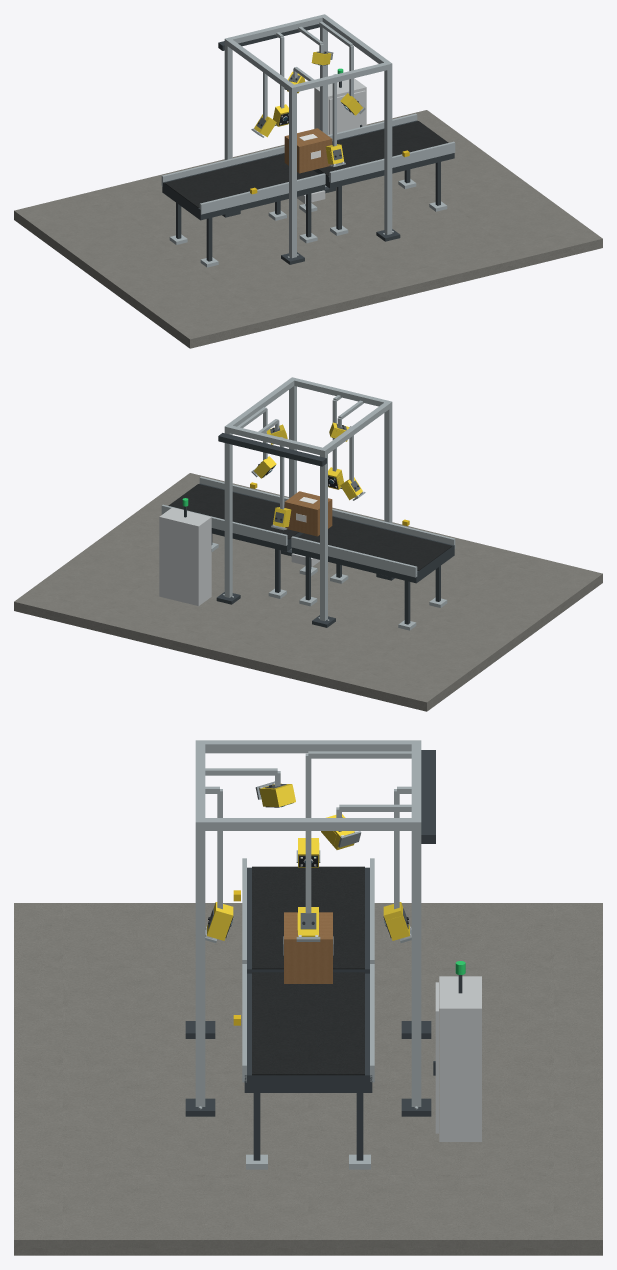
The picture shows the model from 3 angles, top to bottom: view 1: azimuth 30°, elevation 25°; view 2: azimuth 150°, elevation 25°; view 3: azimuth 270°, elevation 25°; orthographic projection. The views are drawn at different scales.
Parts seen in each view (by area): view 1: Concrete floor, Belt surface, Belt surface.001, Tunnel upright.002, Side conveyor rail.002, Side conveyor rail, Tunnel upright, Belt conveyor frame, Sample carton, Tunnel upright.001, Side conveyor rail.001, Belt conveyor frame.001 (+8 smaller); view 2: Concrete floor, Tunnel controller cabinet, Belt surface, Belt surface.001, Side conveyor rail.001, Tunnel upright.003, Belt conveyor frame, Sample carton, Tunnel upright.001, Overhead cable raceway, Tunnel upright, Side conveyor rail (+8 smaller); view 3: Concrete floor, Belt surface.001, Belt surface, Tunnel controller cabinet, Belt conveyor frame.001, Tunnel upright.002, Tunnel upright.003, Tunnel crossbeam.001, Sample carton, Tunnel crossbeam, Overhead cable raceway, Belt conveyor frame (+5 smaller).
Part boxes in pixels (x1,y1,x2,y2): Concrete floor: [14, 110, 602, 348]; Belt surface: [164, 153, 318, 207]; Belt surface.001: [318, 121, 448, 176]; Tunnel upright.002: [384, 66, 392, 234]; Side conveyor rail.002: [329, 141, 455, 182]; Side conveyor rail: [199, 173, 325, 214]; Tunnel upright: [289, 88, 296, 258]; Belt conveyor frame: [162, 153, 324, 220]; Sample carton: [284, 128, 332, 173]; Tunnel upright.001: [224, 44, 232, 159]; Side conveyor rail.001: [161, 145, 284, 186]; Belt conveyor frame.001: [313, 120, 454, 188]; Concrete floor: [14, 473, 602, 711]; Tunnel controller cabinet: [159, 507, 211, 606]; Belt surface: [298, 516, 452, 570]; Belt surface.001: [168, 484, 298, 539]; Side conveyor rail.001: [291, 536, 417, 577]; Tunnel upright.003: [224, 428, 232, 597]; Belt conveyor frame: [292, 516, 454, 583]; Sample carton: [284, 491, 332, 536]; Tunnel upright.001: [320, 452, 327, 621]; Overhead cable raceway: [218, 433, 326, 466]; Tunnel upright: [384, 404, 392, 522]; Side conveyor rail: [332, 508, 455, 548]; Concrete floor: [14, 903, 602, 1255]; Belt surface.001: [252, 972, 364, 1075]; Belt surface: [252, 866, 364, 969]; Tunnel controller cabinet: [439, 976, 481, 1141]; Belt conveyor frame.001: [244, 973, 372, 1092]; Tunnel upright.002: [195, 825, 205, 1106]; Tunnel upright.003: [411, 825, 421, 1106]; Tunnel crossbeam.001: [195, 818, 421, 830]; Sample carton: [284, 912, 332, 983]; Tunnel crossbeam: [195, 740, 421, 753]; Overhead cable raceway: [421, 750, 435, 843]; Belt conveyor frame: [247, 867, 369, 973].
Bounding box in the file's own units: 6.5 × 2.75 × 4.8.
Materials: 18 (3 with a texture image).
